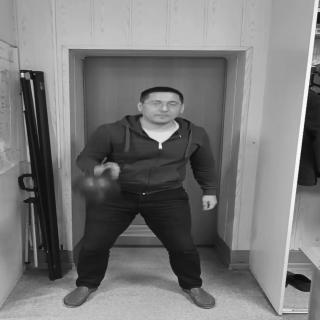girya: (78, 166, 123, 202)
